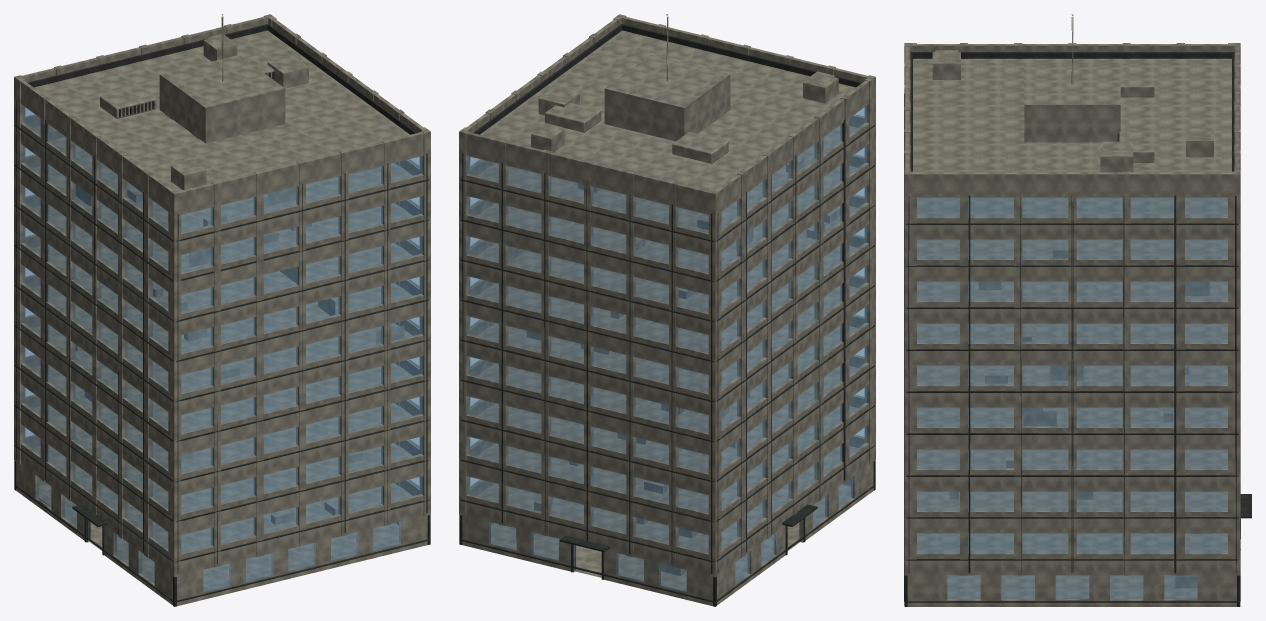
File: skyscraper_10f.glb
3 renders of one model, left to right at view 1: azimuth 30°, elevation 25°; view 2: azimuth 150°, elevation 25°; view 3: azimuth 270°, elevation 25°, orthographic. The views are drawn at different scales.
Visible parts, largest first — view 1: part, part.002, part.003, Building_steel.003, Building_bronze.003, part.007, Building_concrete.003, part.009, part.008, part.004; view 2: part, part.001, part.003, Building_steel.003, Building_bronze.003, Building_concrete.003, part.006, part.005, part.008, part.009, part.004; view 3: part, part.004, Building_steel.003, Building_bronze.003, part.010, Building_concrete.003.
Boxes of the visible parts, box(x1,y1,x2,y2) form: part: box(14, 14, 430, 606); part.002: box(181, 156, 422, 553); part.003: box(23, 106, 167, 548); Building_steel.003: box(14, 24, 430, 606); Building_bronze.003: box(16, 99, 427, 573); part.007: box(203, 522, 400, 592); Building_concrete.003: box(100, 56, 274, 118); part.009: box(113, 532, 154, 583); part.008: box(37, 476, 88, 535); part.004: box(409, 157, 419, 487); part: box(459, 14, 875, 606); part.001: box(467, 156, 708, 553); part.003: box(722, 106, 866, 548); Building_steel.003: box(459, 24, 875, 606); Building_bronze.003: box(462, 120, 845, 573); Building_concrete.003: box(545, 103, 728, 163); part.006: box(489, 522, 574, 565); part.005: box(616, 553, 686, 592); part.008: box(735, 532, 776, 583); part.009: box(813, 476, 852, 526); part.004: box(470, 157, 480, 487); part: box(904, 14, 1240, 606); part.004: box(917, 198, 1227, 552); Building_steel.003: box(904, 52, 1240, 606); Building_bronze.003: box(908, 195, 1251, 573); part.010: box(947, 575, 1197, 599); Building_concrete.003: box(1118, 66, 1154, 162).
Bounding box in the file's own units: 25.04 × 45.31 × 27.04.
5 materials, 4 textured.
